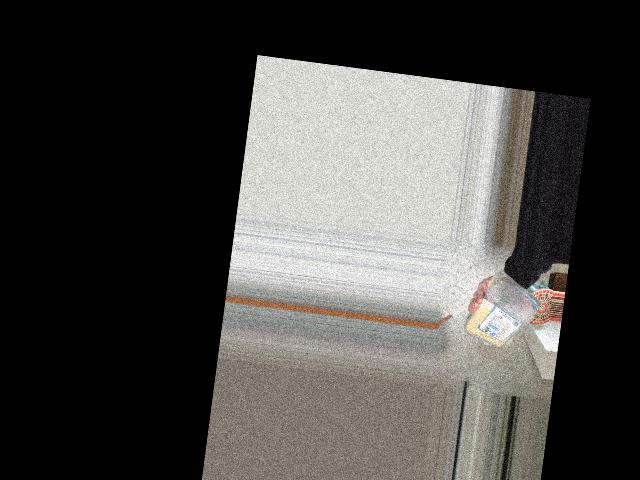cheese: (469, 276, 544, 358)
